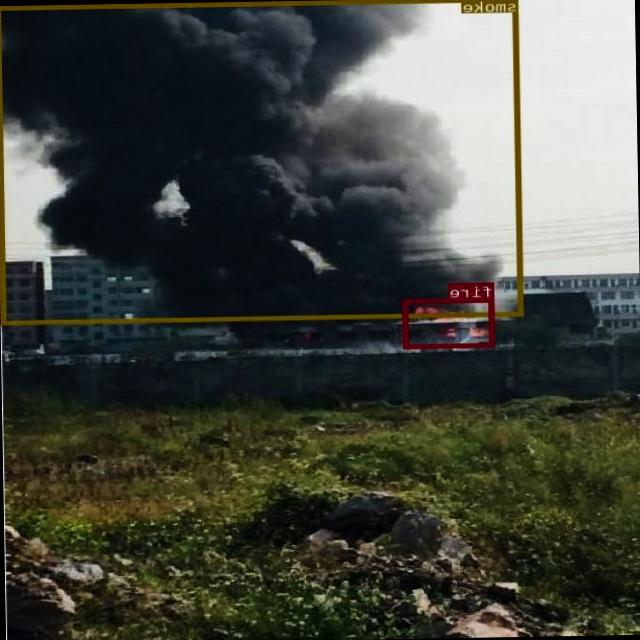fire: (403, 296, 496, 347)
smoke: (0, 0, 523, 323)
